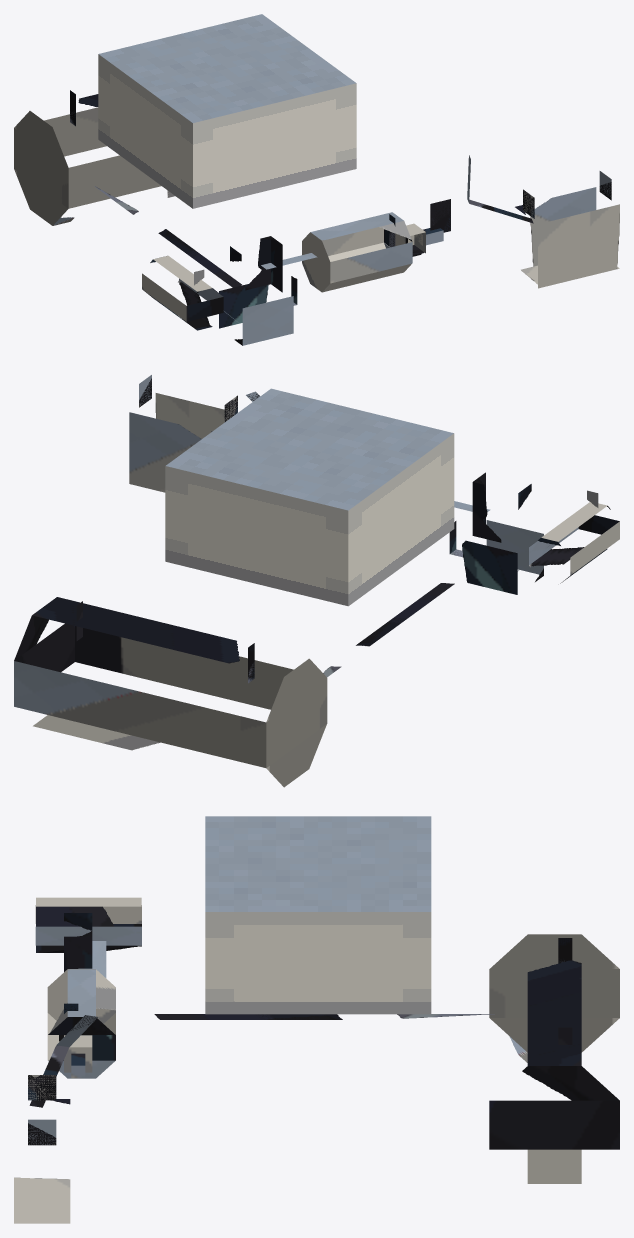
File: carriage_brake_cylinder.obj
3 views of the same model, one above another, from view 1: azimuth 30°, elevation 25°; view 2: azimuth 150°, elevation 25°; view 3: azimuth 270°, elevation 25° (orthographic). The views are drawn at different scales.
Parts seen in each view (by area): view 1: cube, 25制动风缸; view 2: 25制动风缸, cube; view 3: cube, 25制动风缸.
Boxes of the visible parts, <box> form: cube: <box>98,14,356,208</box>; 25制动风缸: <box>14,90,619,345</box>; 25制动风缸: <box>14,375,619,787</box>; cube: <box>165,388,454,606</box>; cube: <box>205,816,431,1014</box>; 25制动风缸: <box>14,897,619,1223</box>.
Bounding box in the file's own units: 2.59 × 1.17 × 2.68.
